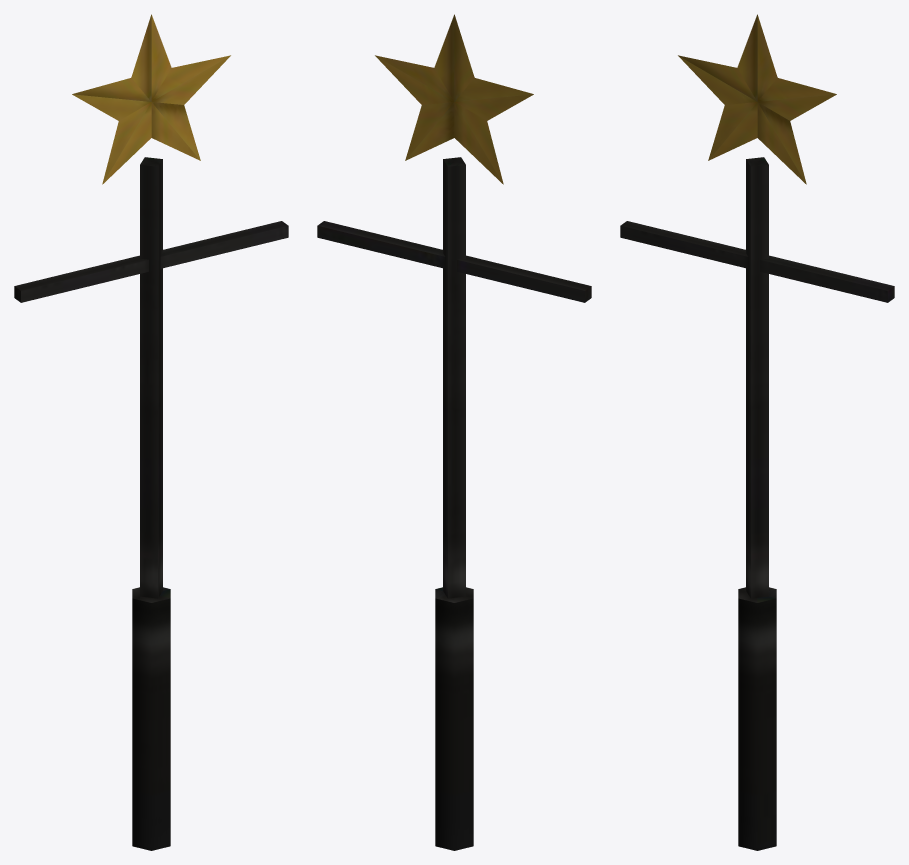
The model's file is weathervane.glb.
The picture shows the model from 3 angles, left to right: view 1: azimuth 30°, elevation 25°; view 2: azimuth 150°, elevation 25°; view 3: azimuth 330°, elevation 25°; orthographic projection.
Visible parts, largest first — view 1: props_0_0; view 2: props_0_0; view 3: props_0_0.
Part boxes in pixels (left/top/right/bottom): props_0_0: left=14, top=14, right=288, bottom=850; props_0_0: left=317, top=14, right=591, bottom=850; props_0_0: left=620, top=14, right=894, bottom=850.
Bounding box in the file's own units: 0.7 × 2.07 × 0.0866.
1 material, 1 textured.
